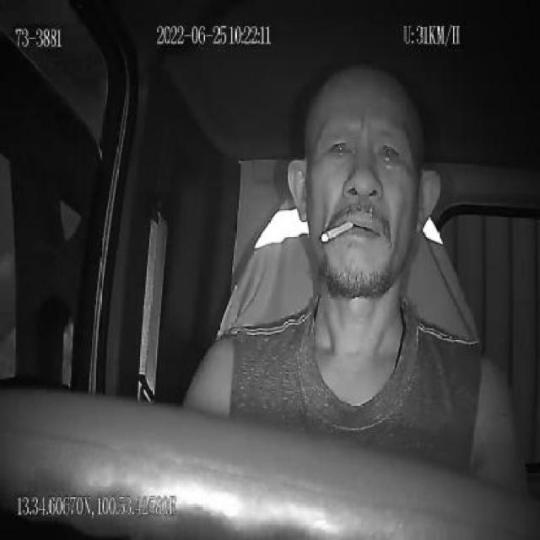smoking: (321, 220, 352, 245)
